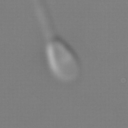normal: (29, 1, 55, 42)
